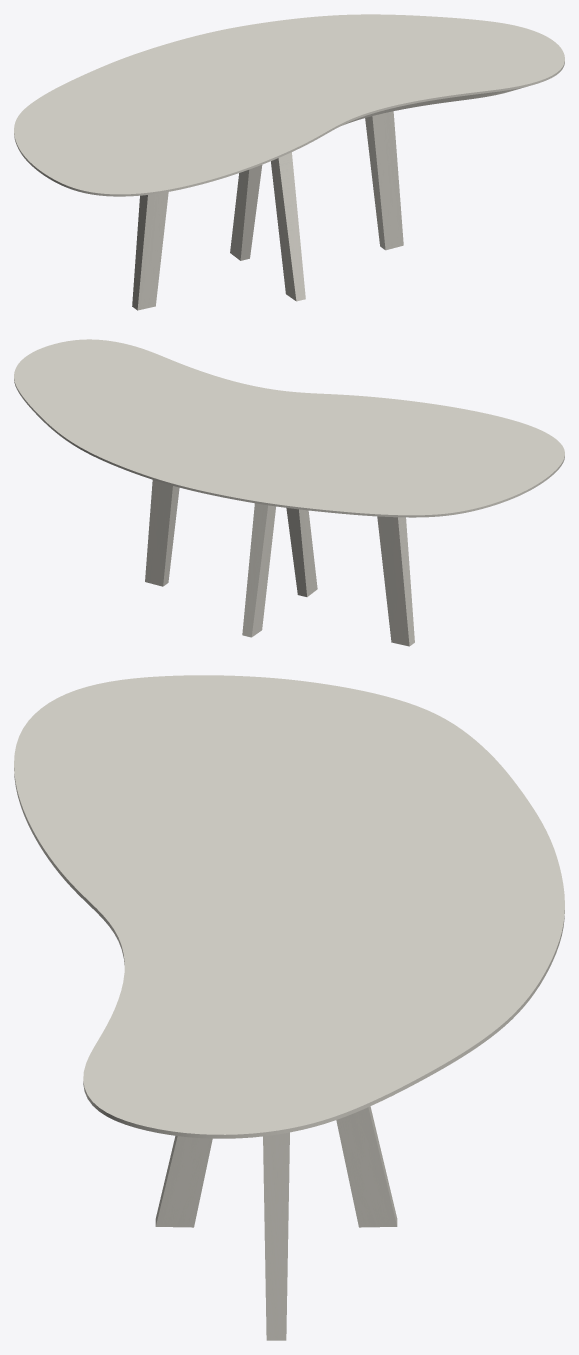
File: pale_leaf1_facet_searwalnut.glb
3 views of the same model, one above another, from view 1: azimuth 30°, elevation 25°; view 2: azimuth 150°, elevation 25°; view 3: azimuth 270°, elevation 25° (orthographic). The views are drawn at different scales.
Visible parts, largest first — view 1: facet_leaf1, searwalnut; view 2: facet_leaf1, searwalnut; view 3: facet_leaf1, searwalnut.
Part boxes in pixels (x1,y1,x2,y2): facet_leaf1: (14,14,564,196); searwalnut: (132,111,403,310); facet_leaf1: (14,339,564,517); searwalnut: (145,480,414,646); facet_leaf1: (14,675,564,1138); searwalnut: (155,1106,397,1340).
Size of the model in its own units: 7.5 by 2.5 by 3.8.
1 material, 1 textured.
